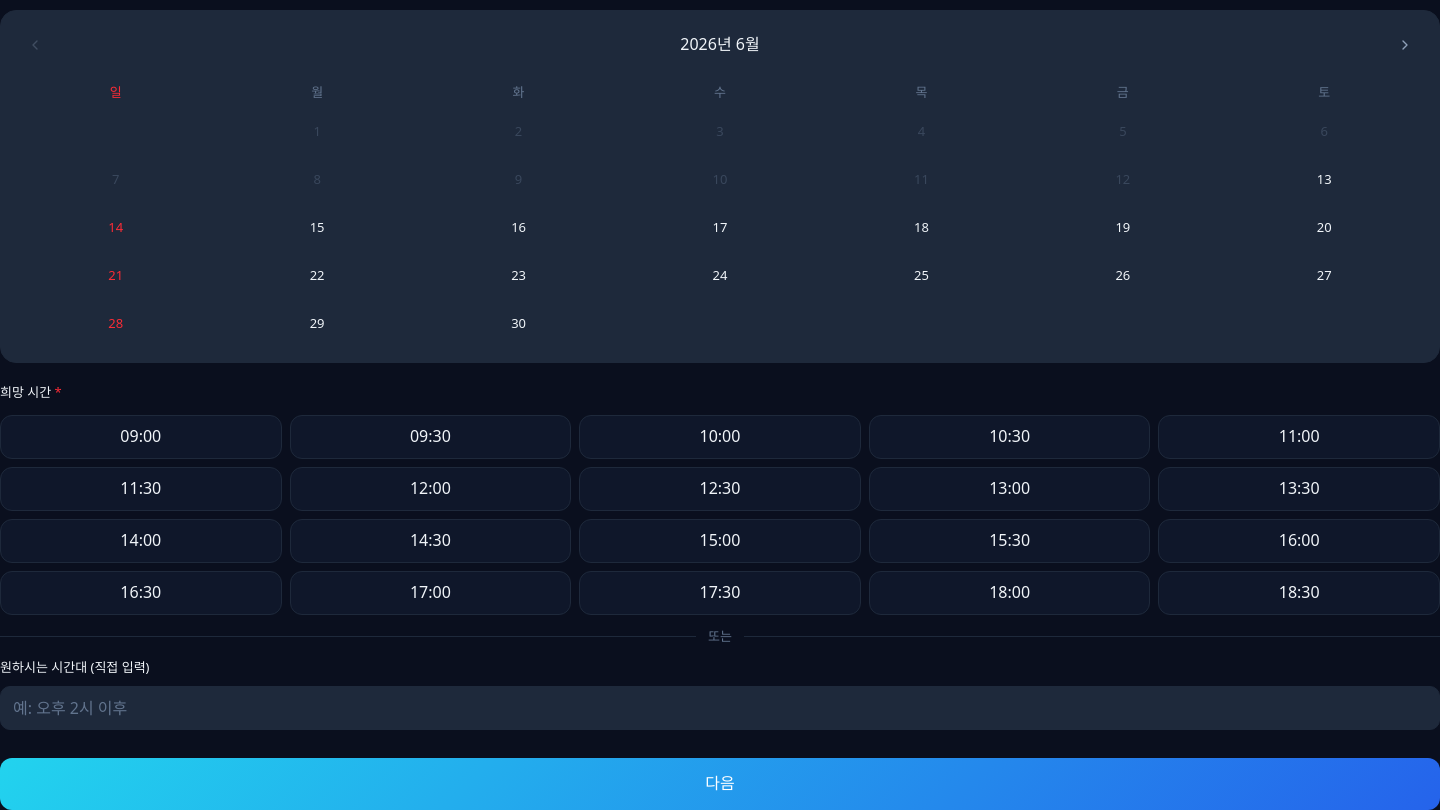
Test case: ReservationForm — 스텝 위저드 › 일정 미선택 시 다음으로 못 넘어가고 에러 표시
The image size is (1440, 810).
(page scrolled)
Click the button "다음" at (720, 784), box [0,758,1439,809]
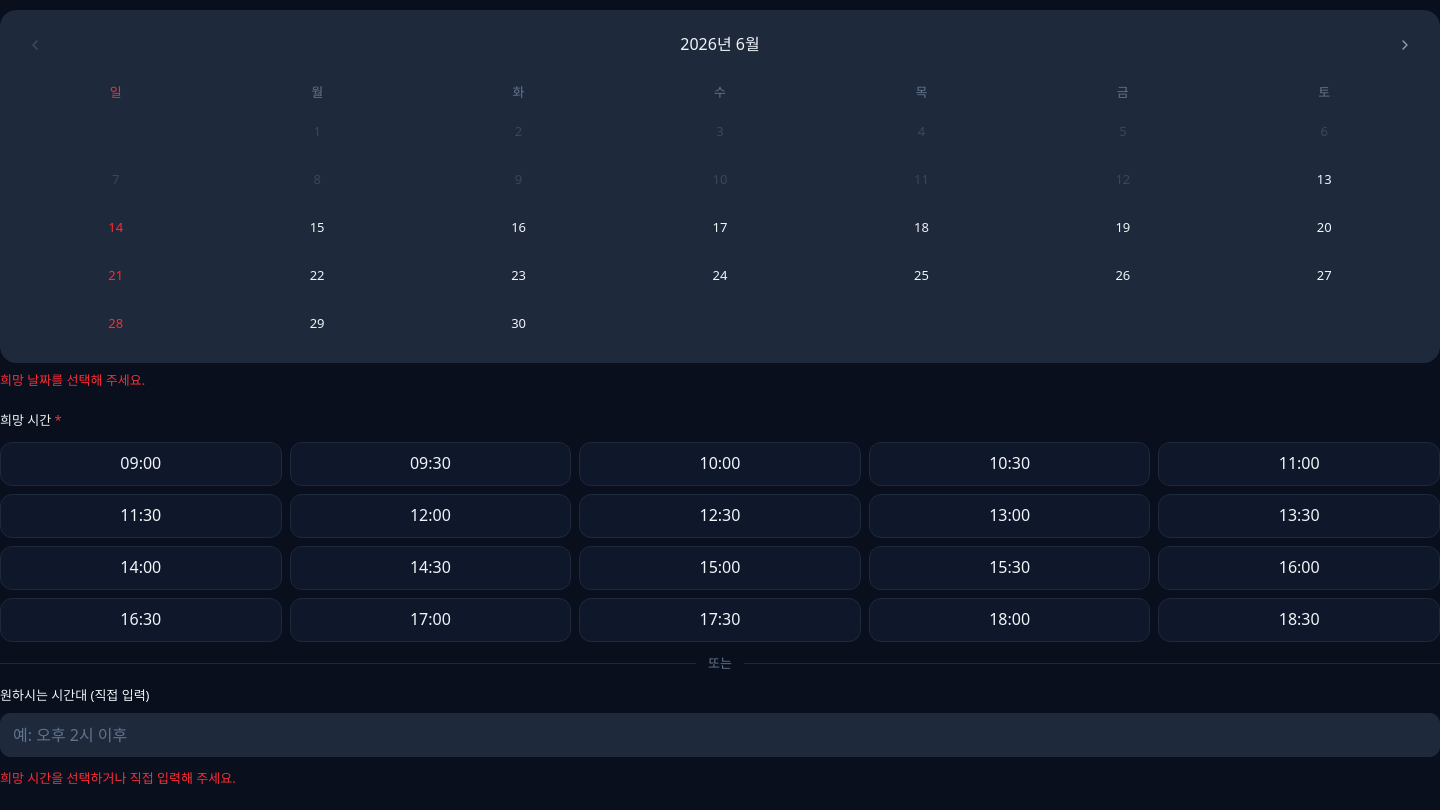
Expected: the element named "희망 날짜 선택" is shown, [0,10,1439,363]
Now the text "희망 날짜를 선택해 주세요." is shown, box [0,371,145,389]
